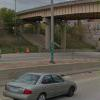Bridge: (3, 1, 94, 39)
